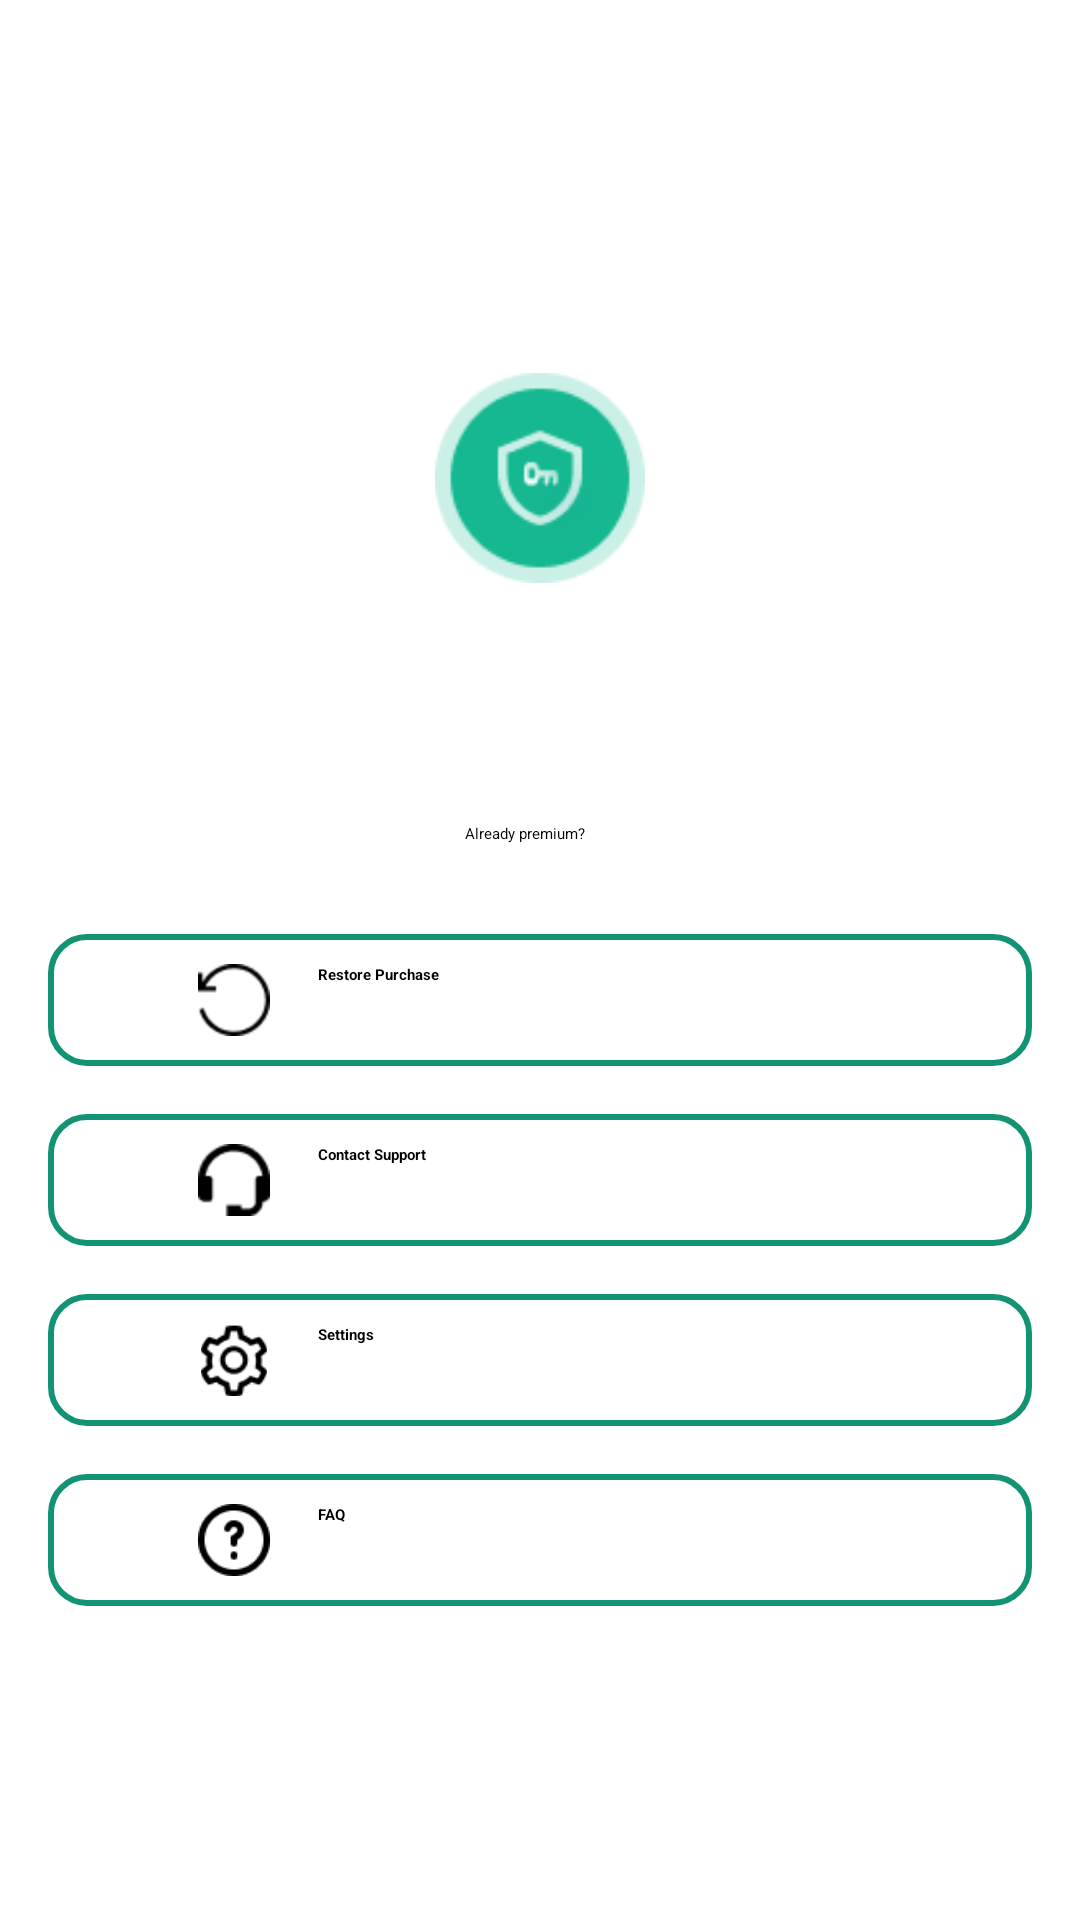

Icon click points for this 1080×1920 phone screenshot, format point (x, y):
settng: point (234, 1360)
